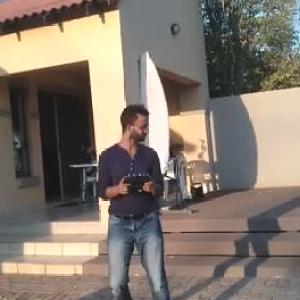follow: (93, 98, 174, 299)
